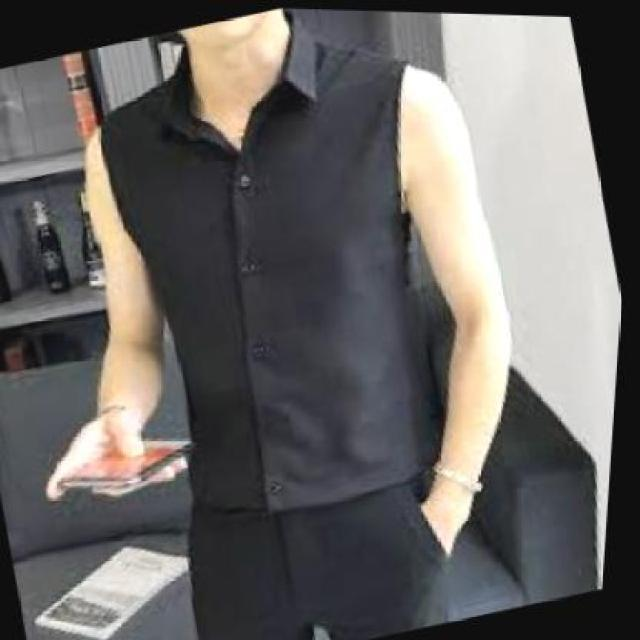no_vest: (60, 2, 514, 541)
